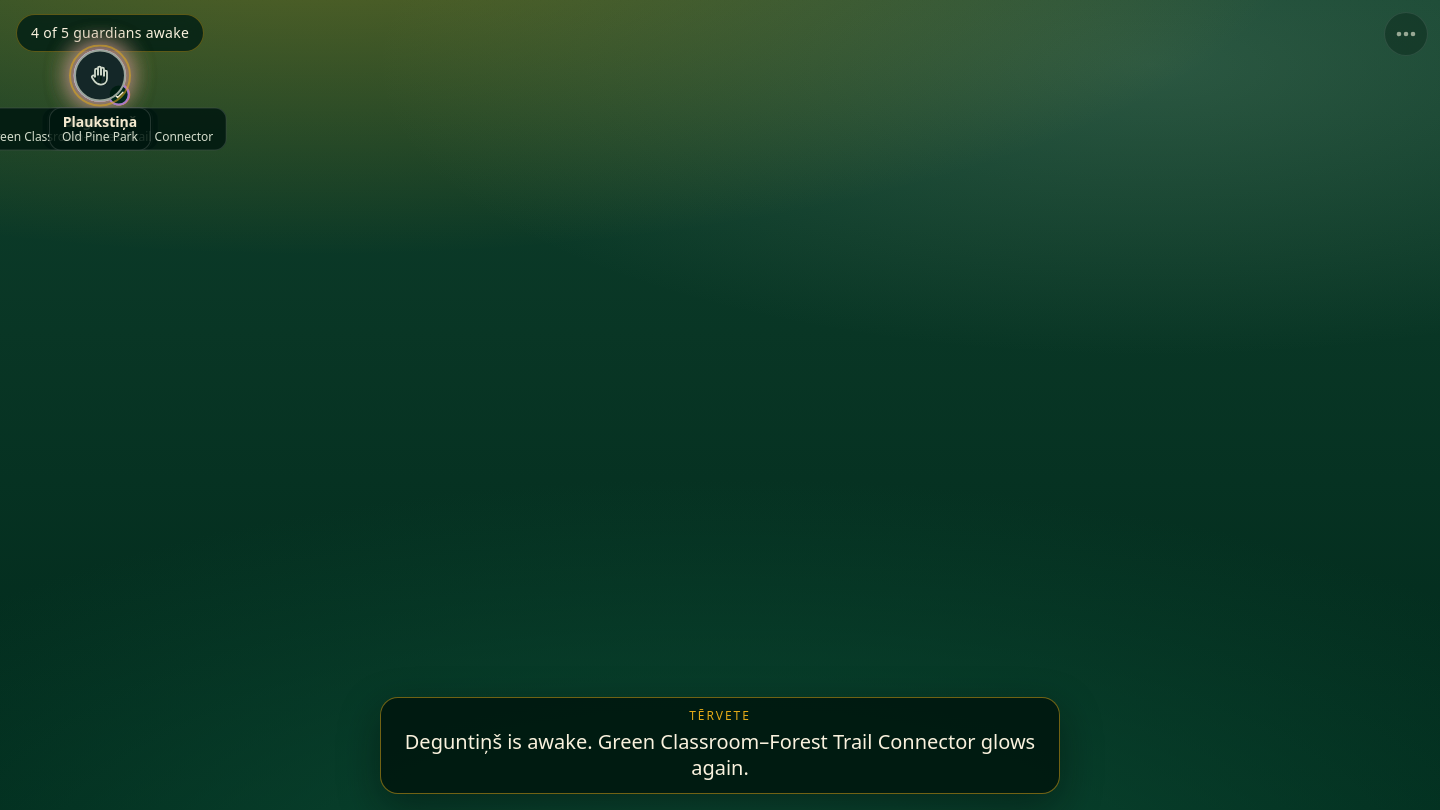
Magic Mode, end to end › plays all five scenes, then awakens the Tree of Five Senses
This screenshot has width=1440, height=810.
Earlier steps of the test are not shown.
Click the button "Plaukstiņa Old Pine Park": (100, 100) [49, 50, 151, 150]
Wait 1500 ms
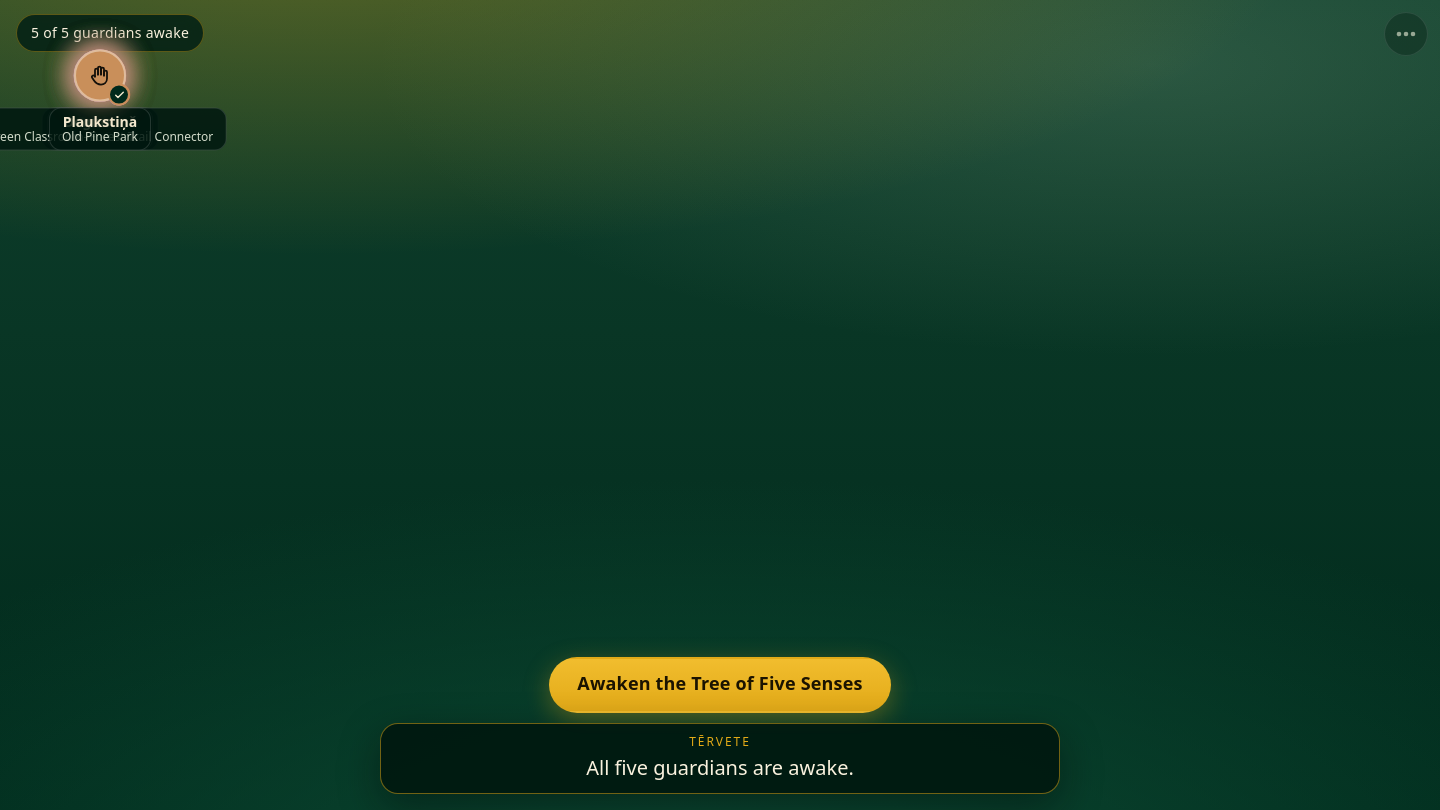
Expected: the text "All five guardians are awake." is shown, [586, 754, 854, 781]
Click the button "Awaken the Tree of Five Senses": (720, 685) [549, 657, 891, 713]
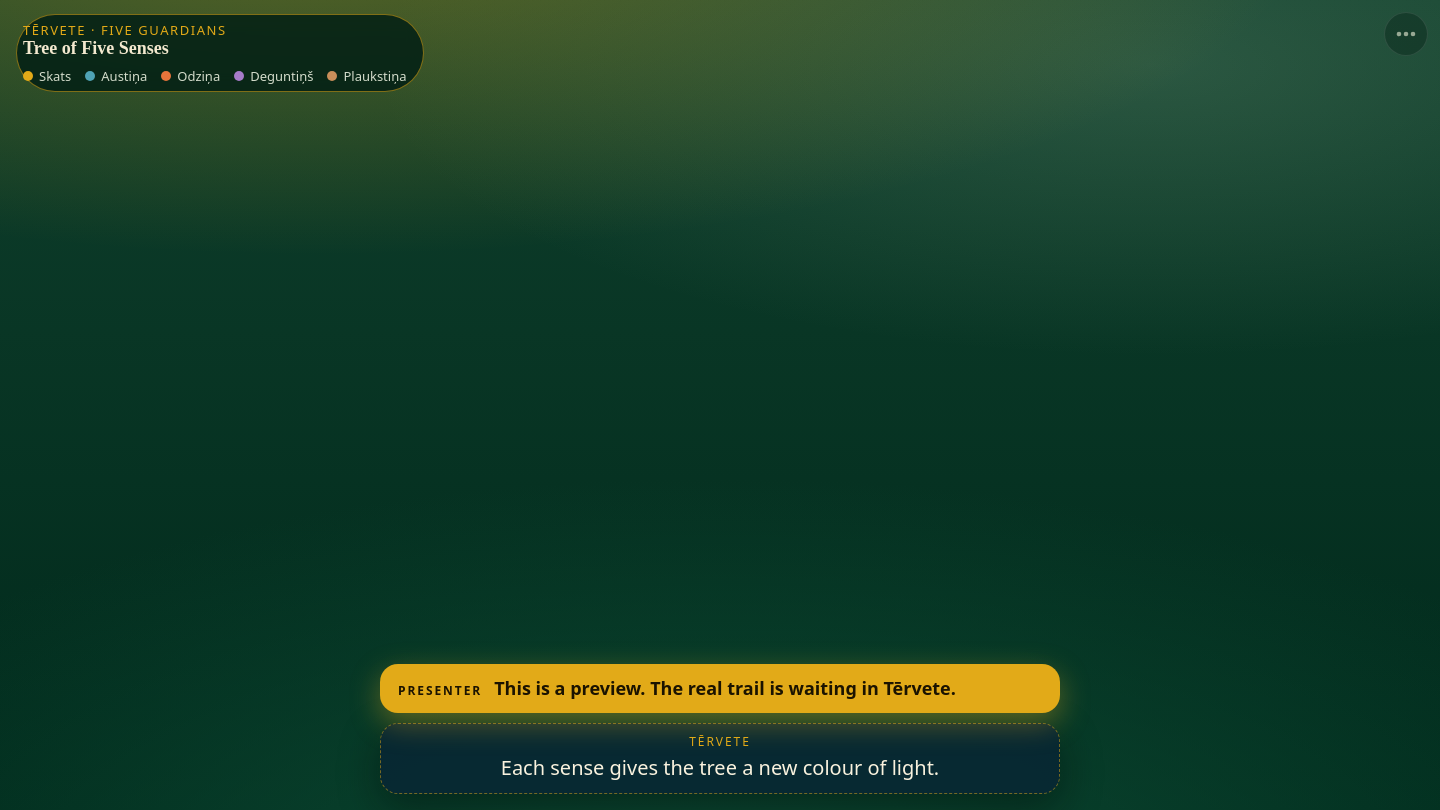
Expected: the heading "Tree of Five Senses" is shown, [23, 38, 169, 58]
Expected: the text "This is a preview. The real trail is waiting in Tērvete." is shown, [494, 676, 956, 701]
